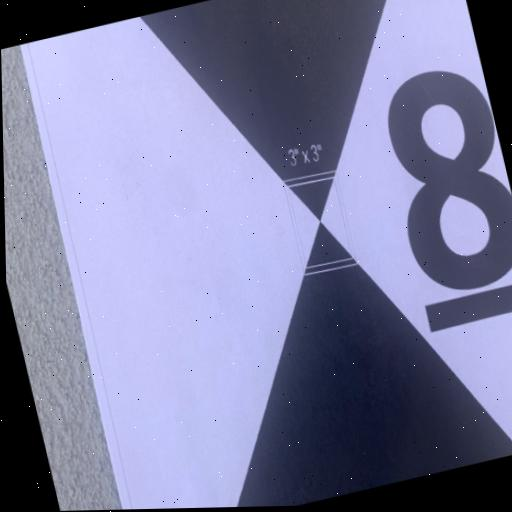target8: (19, 0, 512, 510)
